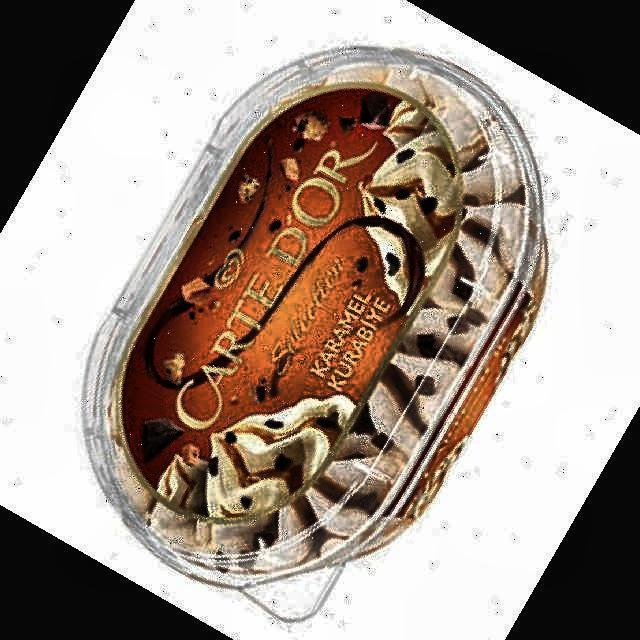plastic: (85, 48, 548, 619)
